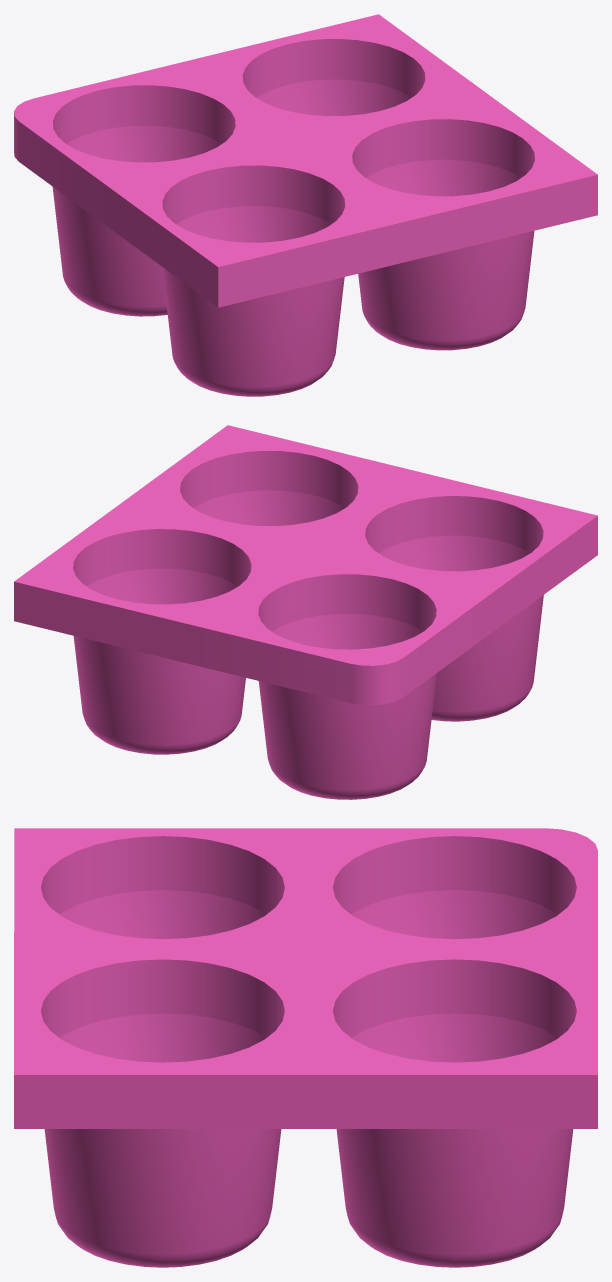
Rendered from Cupcake Tray Sort - Tray 4.fbx.
The picture shows the model from 3 angles, top to bottom: view 1: azimuth 30°, elevation 25°; view 2: azimuth 150°, elevation 25°; view 3: azimuth 270°, elevation 25°; orthographic projection. The views are drawn at different scales.
Parts seen in each view (by area): view 1: tray 4; view 2: tray 4; view 3: tray 4.
Part boxes in pixels (box(x1,y1,x2,y2)): tray 4: box(14, 14, 597, 396); tray 4: box(14, 425, 597, 799); tray 4: box(14, 828, 597, 1267).
Bounding box in the file's own units: 0.098 × 0.098 × 0.0408.
